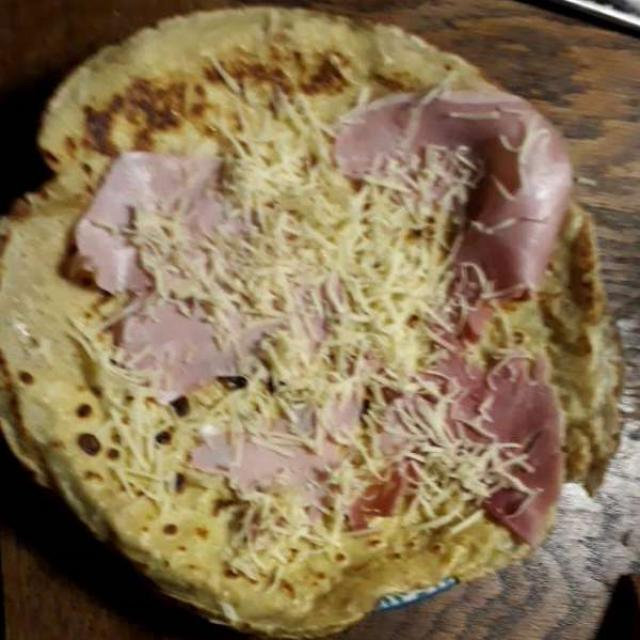gruyere: (94, 126, 523, 576)
